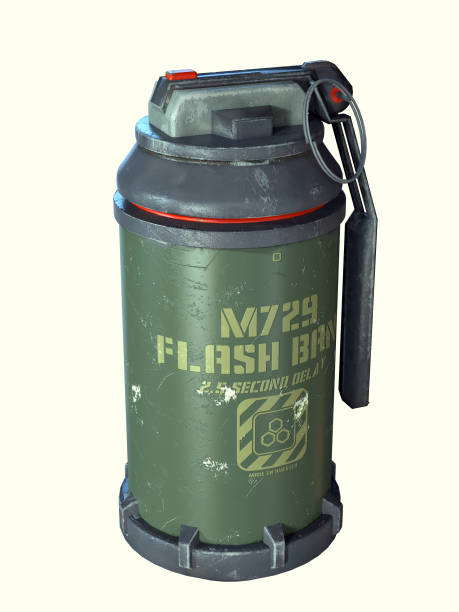e1: (113, 61, 378, 575)
